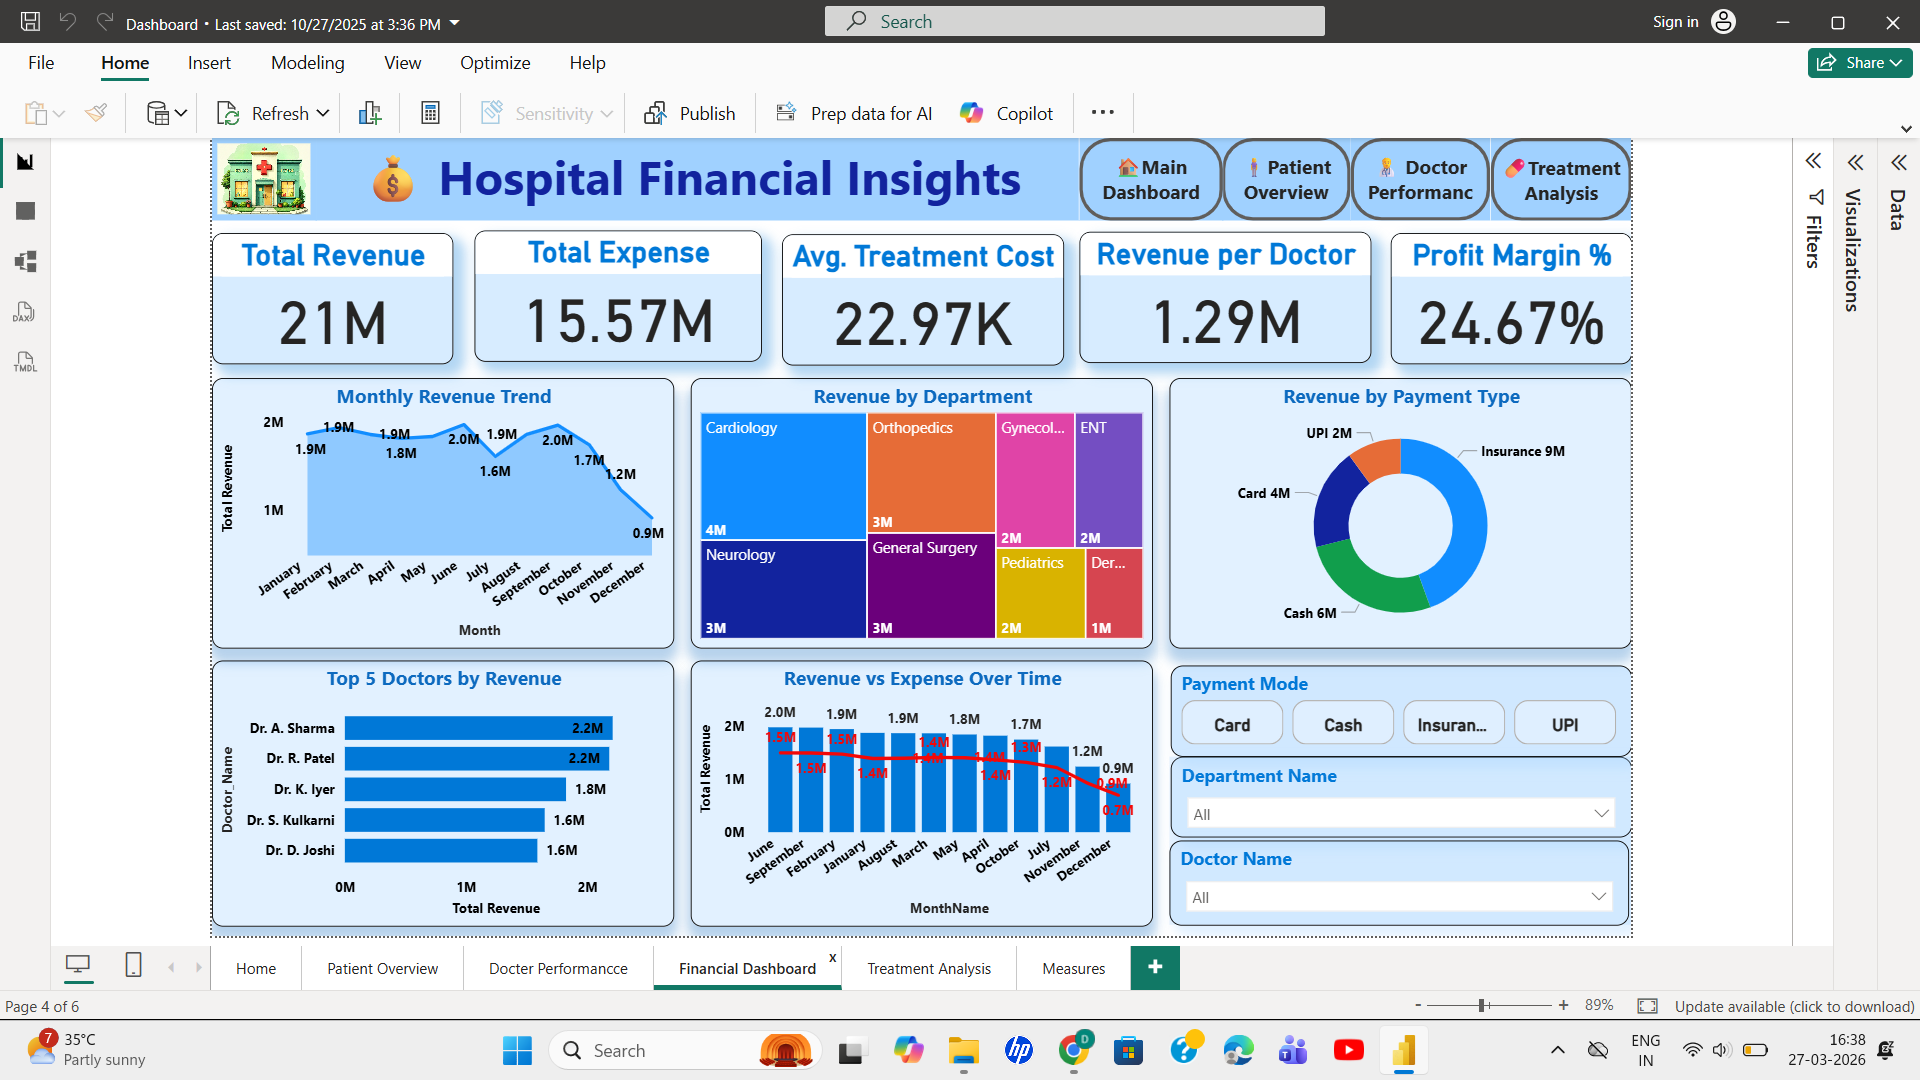

The page's visual inventory and layout, read from the dashboard file:
{"tool":"powerbi","page":{"name":"Financial Dashboard","canvas":[1280,720],"ordinal":3},"visuals":[{"type":"group","id":"g1","title":"Group 1","box":[0,0,782.2,74.1],"z":0},{"type":"textbox","box":[94.1,0,688.1,74.1],"z":0,"group":"g1"},{"type":"card","title":"Total Revenue","fields":{"Values":["Measure.Total Revenue"]},"box":[0,85.9,217.7,118.6],"z":0,"group":"g2"},{"type":"image","box":[0,0,94.1,74.1],"z":1000,"group":"g1"},{"type":"group","id":"g2","title":"Group 2","box":[0,83.6,1280.3,121.5],"z":1000},{"type":"card","title":"Total Expense","fields":{"Values":["Measure.Total Expense"]},"box":[237.2,83.6,259.2,118.6],"z":1000,"group":"g2"},{"type":"slicer","title":"Department Name","fields":{"Values":["DimDepartment.Department_Name"]},"box":[864.3,558.8,415.8,72.8],"z":1000,"group":"g4"},{"type":"card","title":"Avg. Treatment Cost","fields":{"Values":["Measure.Avg Treatment Cost"]},"box":[513.6,86.5,254.3,118.6],"z":2000,"group":"g2"},{"type":"areaChart","title":"Monthly Revenue Trend","fields":{"Y":["Measure.Total Revenue"],"Category":["DimDate.Date.Variation.Date Hierarchy.Year","DimDate.Date.Variation.Date Hierarchy.Quarter","DimDate.Date.Variation.Date Hierarchy.Month","DimDate.Date.Variation.Date Hierarchy.Day"]},"box":[0,216.8,417.2,244.3],"z":2000},{"type":"slicer","title":"Doctor Name","fields":{"Values":["DimDoctor.Doctor_Name"]},"box":[863.1,633.9,414.4,76.9],"z":2000,"group":"g4"},{"type":"card","title":"Profit Margin %","fields":{"Values":["Measure.Profit Margin %"]},"box":[1062.6,85.9,217.7,118.6],"z":3000,"group":"g2"},{"type":"treemap","title":"Revenue by Department","fields":{"Group":["DimDepartment.Department_Name"],"Values":["Measure.Total Revenue"]},"box":[432.2,216.8,417.2,244.3],"z":3000},{"type":"card","title":"Revenue per Doctor","fields":{"Values":["Measure.Revenue per Doctor"]},"box":[782.6,85.3,262.9,118.6],"z":4000,"group":"g2"},{"type":"donutChart","title":"Revenue by Payment Type","fields":{"Category":["FactPatientVisit.Payment_Mode"],"Y":["Measure.Total Revenue"]},"box":[863.1,216.8,417.2,244.3],"z":4000},{"type":"clusteredBarChart","title":"Top 5 Doctors by Revenue","fields":{"Category":["DimDoctor.Doctor_Name"],"Y":["Measure.Total Revenue"]},"box":[0,470.7,417.2,240.1],"z":5000},{"type":"lineClusteredColumnComboChart","title":"Revenue vs Expense Over Time","fields":{"Category":["DimDate.MonthName"],"Y":["Measure.Total Revenue"],"Y2":["Measure.Total Expense"]},"box":[432,471,417,240],"z":6000},{"type":"group","id":"g3","title":"Group 4","box":[863.1,476.2,417.2,234.6],"z":7000},{"type":"group","id":"g4","title":"Group 3","box":[863.1,558.8,417,152.1],"z":7000,"group":"g3"},{"type":"actionButton","box":[911,0,115.9,74.4],"z":8000},{"type":"advancedSlicerVisual","title":"Payment Mode","fields":{"Values":["FactPatientVisit.Payment_Mode"]},"box":[864.5,476.2,415.8,82.4],"z":8000,"group":"g3"},{"type":"actionButton","box":[1026.8,0,125.6,74.4],"z":9000},{"type":"actionButton","box":[1152.8,0,127.2,74.6],"z":10000},{"type":"actionButton","box":[781.7,0,129.3,74.4],"z":11000}]}

Visuals, with their boxes on the page's 1280x720 design canvas (x1, y1, x2, y2). These are canvas units, not pixel positions in the 1920x1080 screenshot, which may show the page scaled, cropped or inside an application window:
"Group 1" group: 0/0/782/74
textbox: 94/0/782/74
"Total Revenue" card: 0/86/218/204
image: 0/0/94/74
"Group 2" group: 0/84/1280/205
"Total Expense" card: 237/84/496/202
"Department Name" slicer: 864/559/1280/632
"Avg. Treatment Cost" card: 514/86/768/205
"Monthly Revenue Trend" areaChart: 0/217/417/461
"Doctor Name" slicer: 863/634/1278/711
"Profit Margin %" card: 1063/86/1280/204
"Revenue by Department" treemap: 432/217/849/461
"Revenue per Doctor" card: 783/85/1046/204
"Revenue by Payment Type" donutChart: 863/217/1280/461
"Top 5 Doctors by Revenue" clusteredBarChart: 0/471/417/711
"Revenue vs Expense Over Time" lineClusteredColumnComboChart: 432/471/849/711
"Group 4" group: 863/476/1280/711
"Group 3" group: 863/559/1280/711
actionButton: 911/0/1027/74
"Payment Mode" advancedSlicerVisual: 864/476/1280/559
actionButton: 1027/0/1152/74
actionButton: 1153/0/1280/75
actionButton: 782/0/911/74
